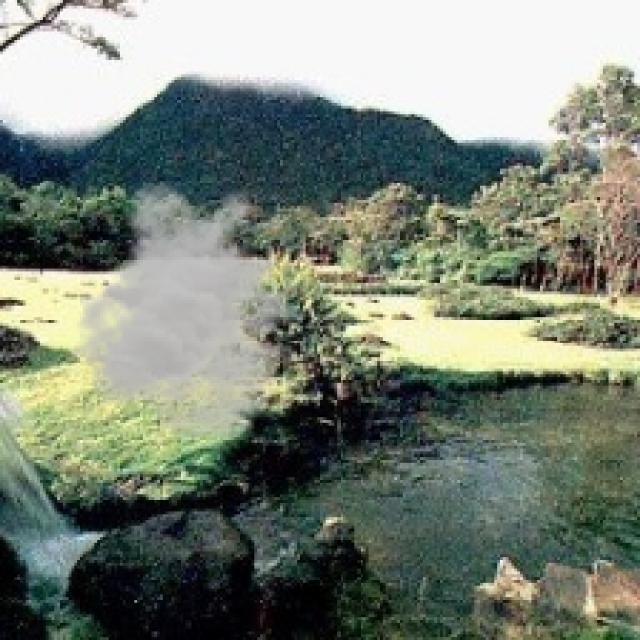smoke: (69, 180, 320, 443)
